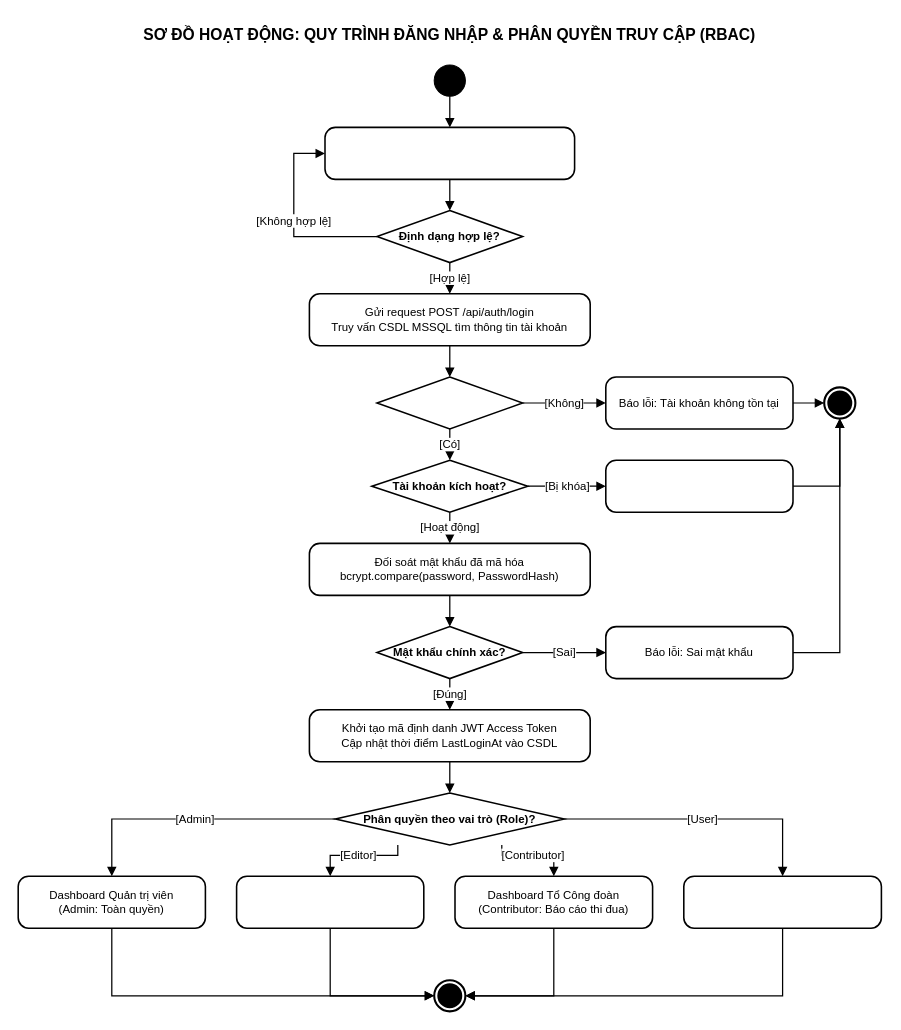
This 901x1030 diagram has some shape labels left out. The shapes that lost their labels are listed below. From the top down, each one's centre as x and y in pixels, then its label:
the point at 449,153: Người dùng truy cập form đăng nhập Nhập Email và Mật khẩu
the point at 449,402: Tài khoản tồn tại?
the point at 699,486: Báo lỗi: Tài khoản bị khóa
the point at 329,902: Dashboard Biên tập viên (Editor: CMS & Trợ lý AI)
the point at 782,902: Cổng thông tin Công đoàn (User: Tra cứu tin & Phúc lợi)
